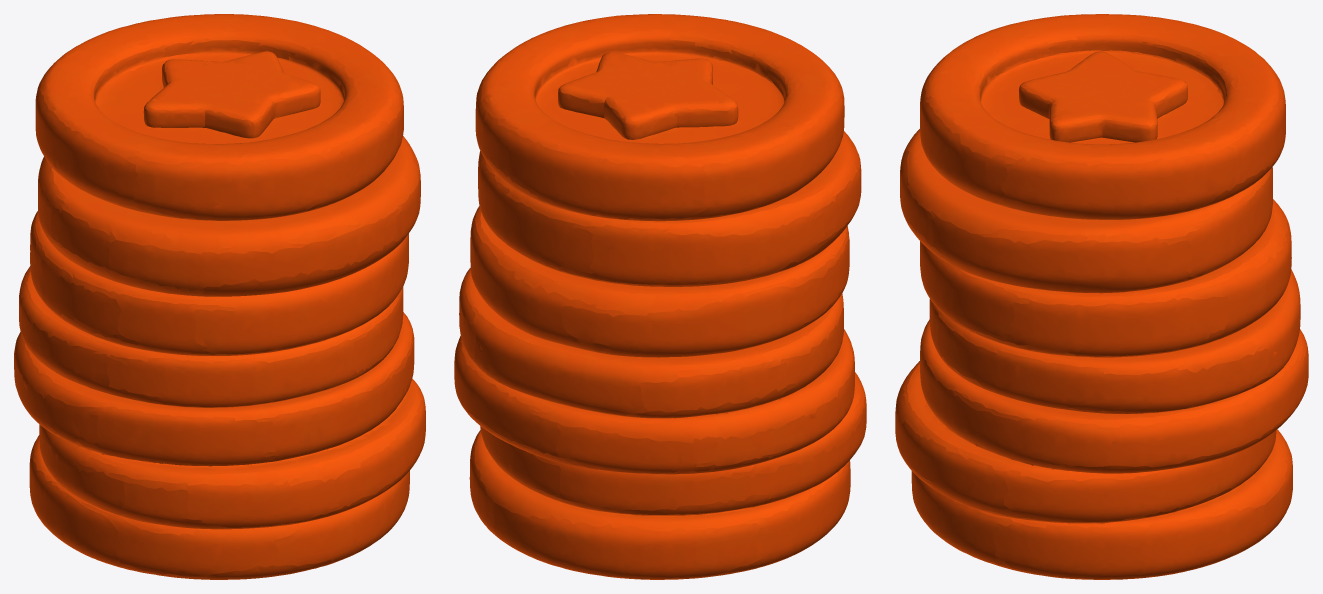
Rendered from gold-coins.glb.
3 renders of one model, left to right at view 1: azimuth 30°, elevation 25°; view 2: azimuth 150°, elevation 25°; view 3: azimuth 270°, elevation 25°, orthographic.
Visible parts, largest first — view 1: geometry_0; view 2: geometry_0; view 3: geometry_0.
Part boxes in pixels (bbox=[...]): geometry_0: bbox=[14, 14, 425, 579]; geometry_0: bbox=[454, 14, 866, 579]; geometry_0: bbox=[895, 14, 1308, 579].
Bounding box in the file's own units: 0.0839 × 0.095 × 0.0847.
Materials: 1 (1 with a texture image).
